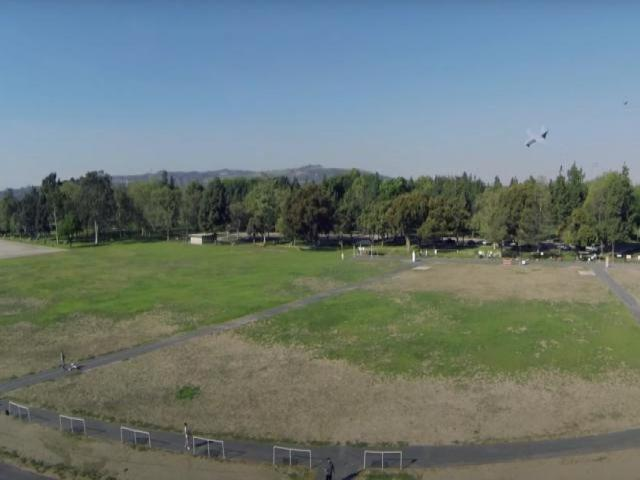iha: (526, 126, 550, 146)
